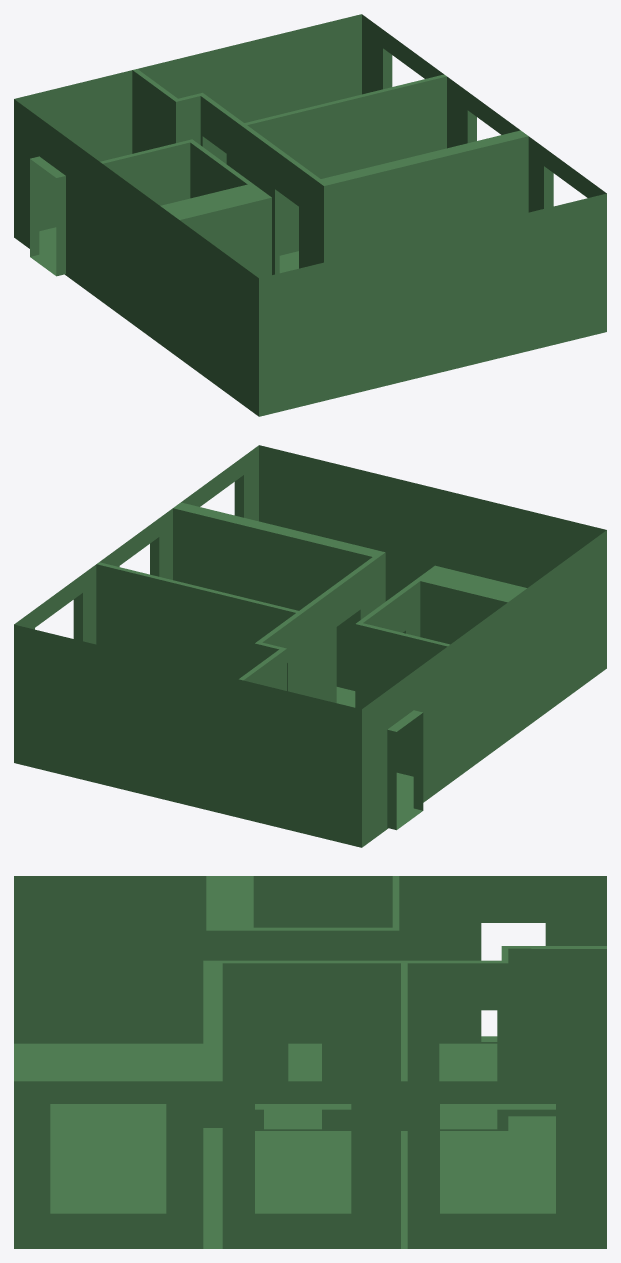
File: Rooms_A_3_2_17.FBX
3 renders of one model, top to bottom at view 1: azimuth 30°, elevation 25°; view 2: azimuth 150°, elevation 25°; view 3: azimuth 270°, elevation 25°, orthographic. The views are drawn at different scales.
Parts seen in each view (by area): view 1: Rooms_A_3_2_17; view 2: Rooms_A_3_2_17; view 3: Rooms_A_3_2_17.
Part boxes in pixels (x1,y1,x2,y2): Rooms_A_3_2_17: [14, 14, 606, 416]; Rooms_A_3_2_17: [14, 445, 606, 847]; Rooms_A_3_2_17: [14, 876, 606, 1248].
Bounding box in the file's own units: 7.76 × 2.8 × 8.98.
